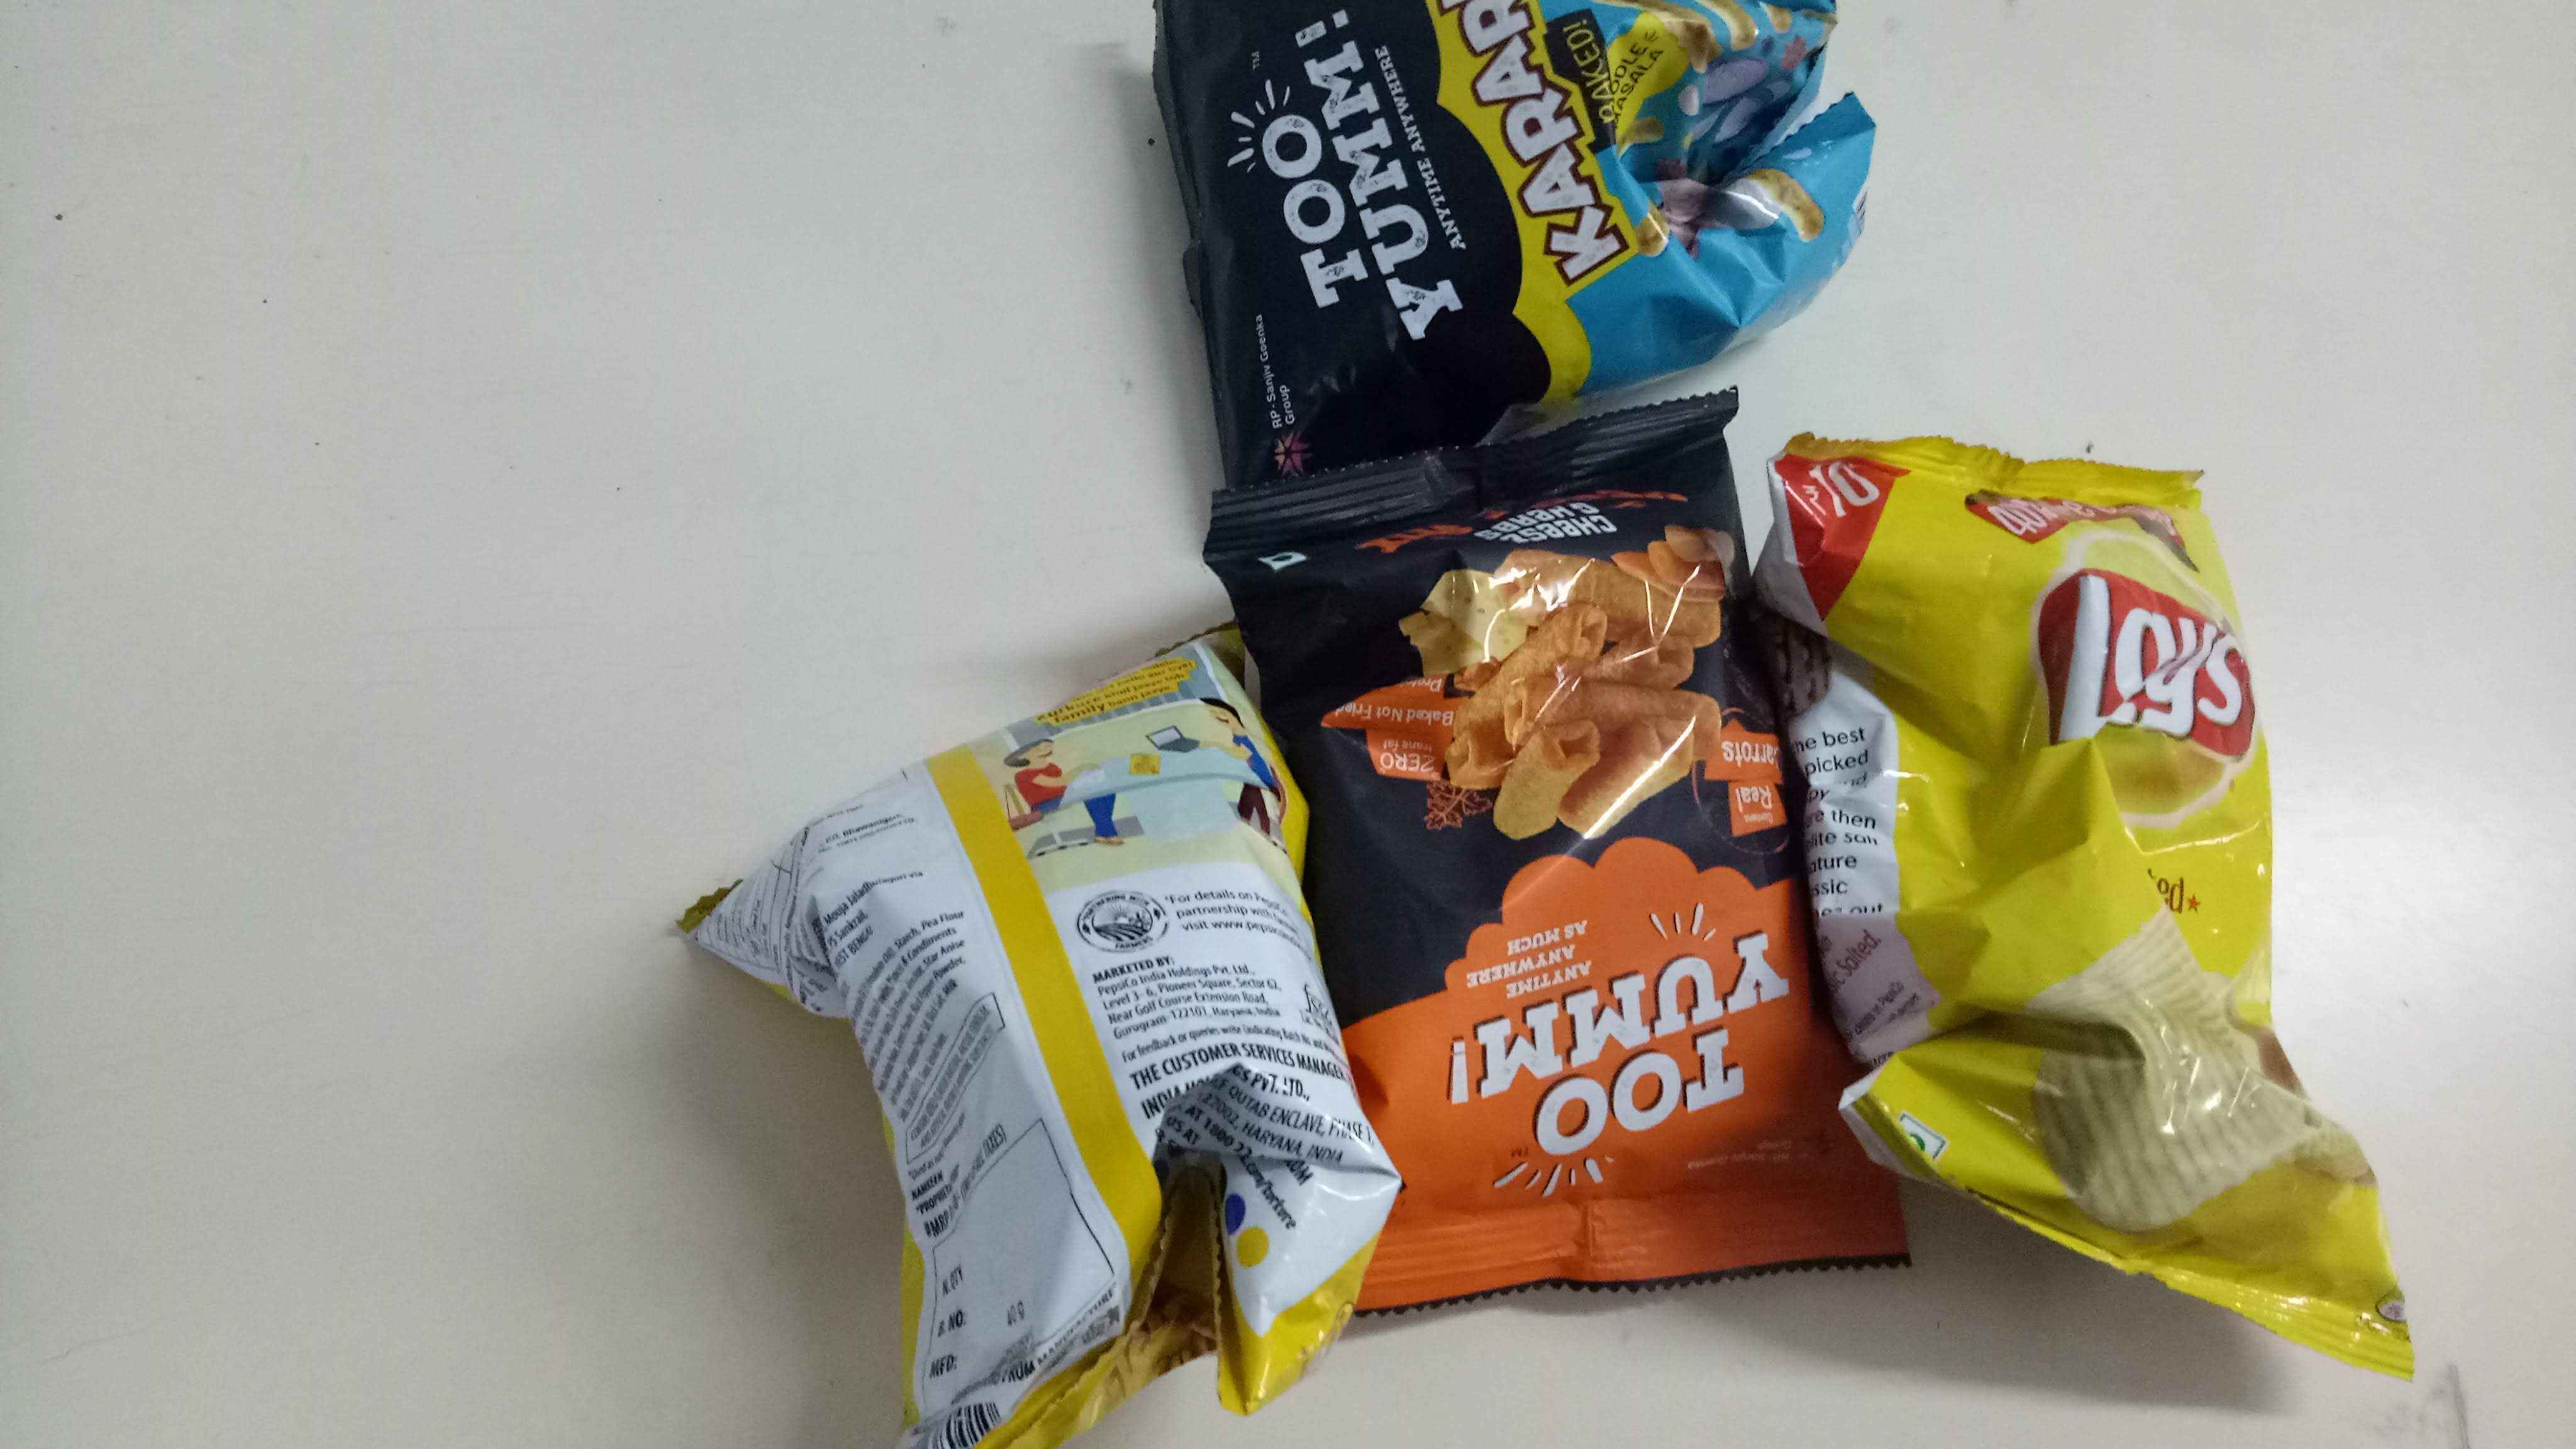Lays: (2010, 534, 2258, 842)
tooyumm: (1447, 927, 1794, 1200), (1224, 19, 1491, 352)
